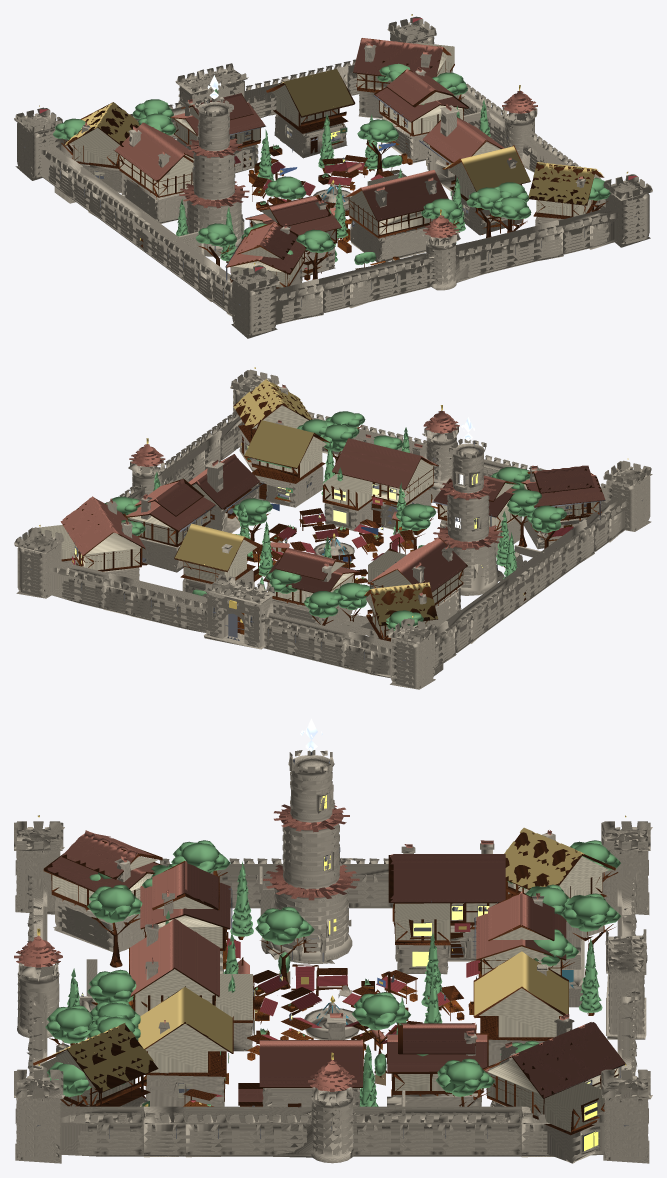
The model's file is valcourt_loin.glb.
3 views of the same model, one above another, from view 1: azimuth 30°, elevation 25°; view 2: azimuth 150°, elevation 25°; view 3: azimuth 270°, elevation 25° (orthographic). The views are drawn at different scales.
Visible parts, largest first — view 1: stone, tile, leaf, timber, plaster, thatch, wood, red, iron; view 2: stone, tile, leaf, timber, plaster, thatch, iron, red, wood, flame; view 3: stone, tile, leaf, plaster, timber, thatch, red, wood, flame, iron.
Part boxes in pixels (x1=…): stone: x1=14, y1=16, x2=652, y2=338; tile: x1=85, y1=38, x2=582, y2=272; leaf: x1=53, y1=63, x2=610, y2=264; timber: x1=61, y1=38, x2=607, y2=288; plaster: x1=69, y1=42, x2=600, y2=287; thatch: x1=65, y1=68, x2=602, y2=218; wood: x1=234, y1=137, x2=501, y2=280; red: x1=39, y1=18, x2=637, y2=271; iron: x1=24, y1=95, x2=636, y2=307; stone: x1=14, y1=369, x2=652, y2=689; tile: x1=60, y1=384, x2=605, y2=595; leaf: x1=104, y1=411, x2=566, y2=630; timber: x1=61, y1=384, x2=604, y2=641; plaster: x1=38, y1=405, x2=600, y2=638; thatch: x1=175, y1=379, x2=438, y2=625; iron: x1=30, y1=436, x2=642, y2=660; red: x1=72, y1=497, x2=573, y2=564; wood: x1=228, y1=455, x2=572, y2=634; flame: x1=75, y1=445, x2=482, y2=567; stone: x1=14, y1=750, x2=652, y2=1163; tile: x1=14, y1=803, x2=625, y2=1101; leaf: x1=45, y1=840, x2=620, y2=1106; plaster: x1=40, y1=856, x2=618, y2=1132; timber: x1=33, y1=832, x2=625, y2=1135; thatch: x1=52, y1=827, x2=587, y2=1104; red: x1=190, y1=923, x2=479, y2=1102; wood: x1=129, y1=939, x2=481, y2=1106; flame: x1=82, y1=795, x2=598, y2=1150; iron: x1=16, y1=752, x2=628, y2=1151.
Size of the model in its own units: 61.7 by 25.3 by 60.87.
15 materials, 7 textured.
